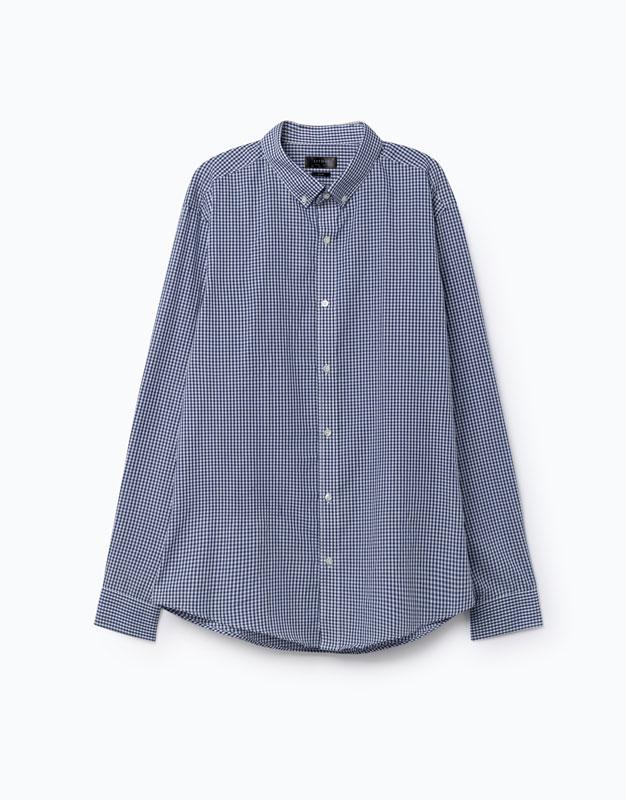teeshirt: (92, 119, 552, 701)
